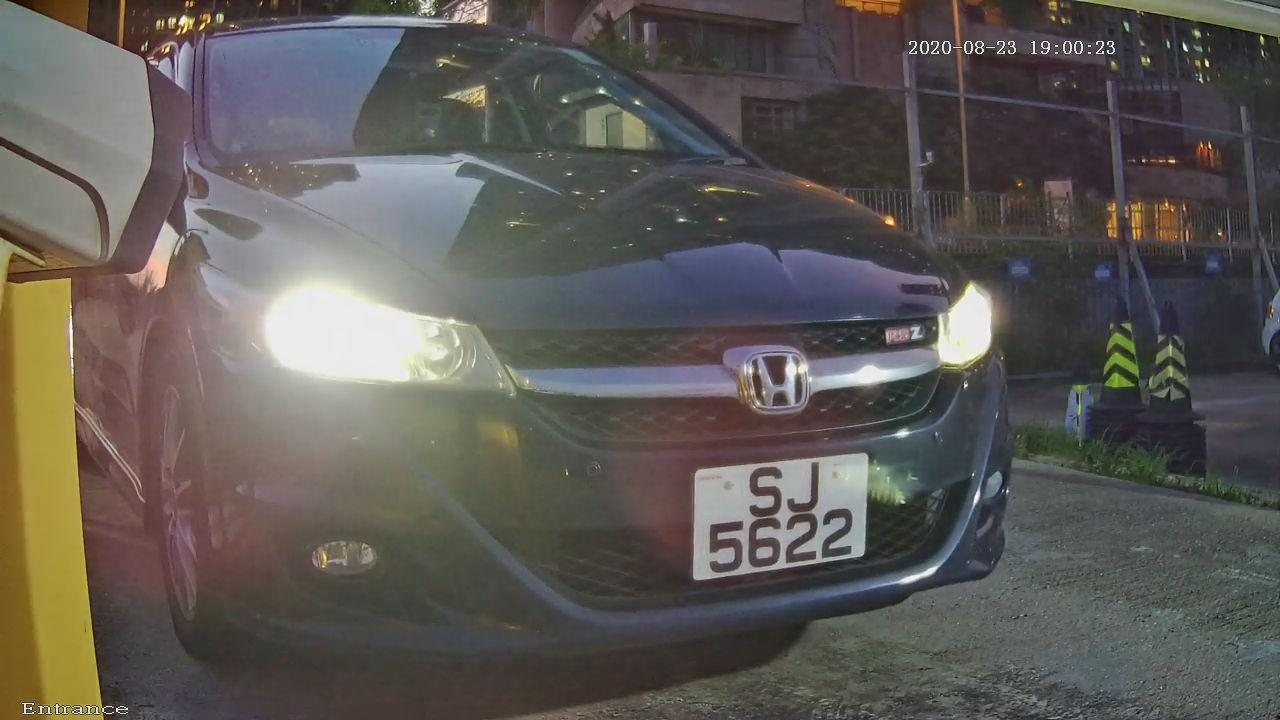Car: (35, 4, 1121, 698)
License Plate: (643, 411, 921, 614)
